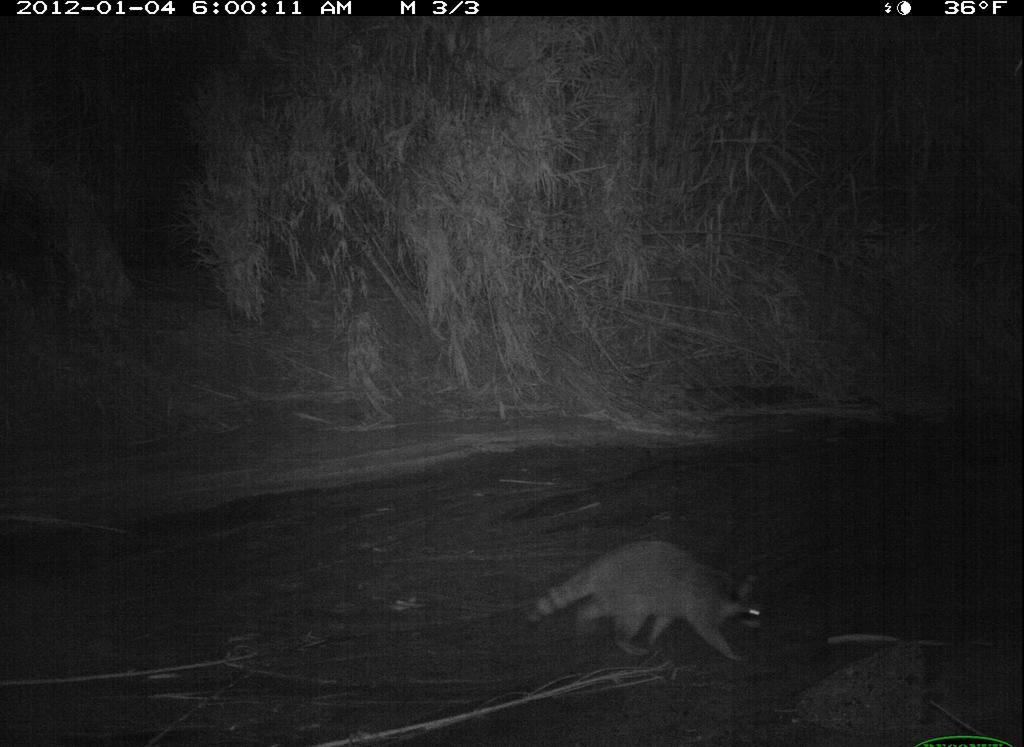raccoon: (519, 539, 779, 666)
